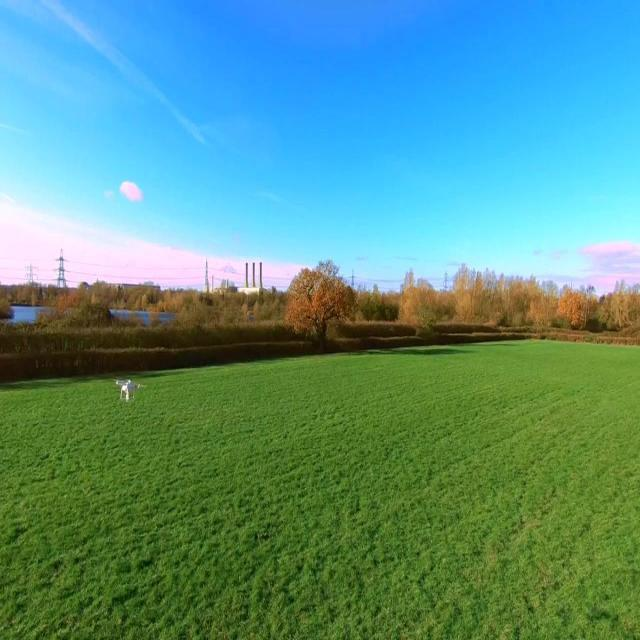drone: (114, 374, 142, 404)
